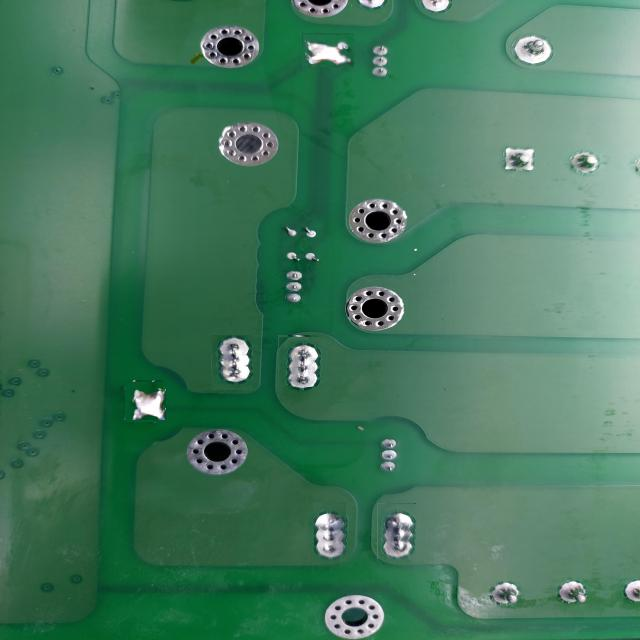Short_circuit: (211, 334, 253, 390), (278, 336, 322, 388), (377, 503, 416, 559), (313, 502, 346, 562), (302, 34, 354, 68), (125, 381, 165, 421)
